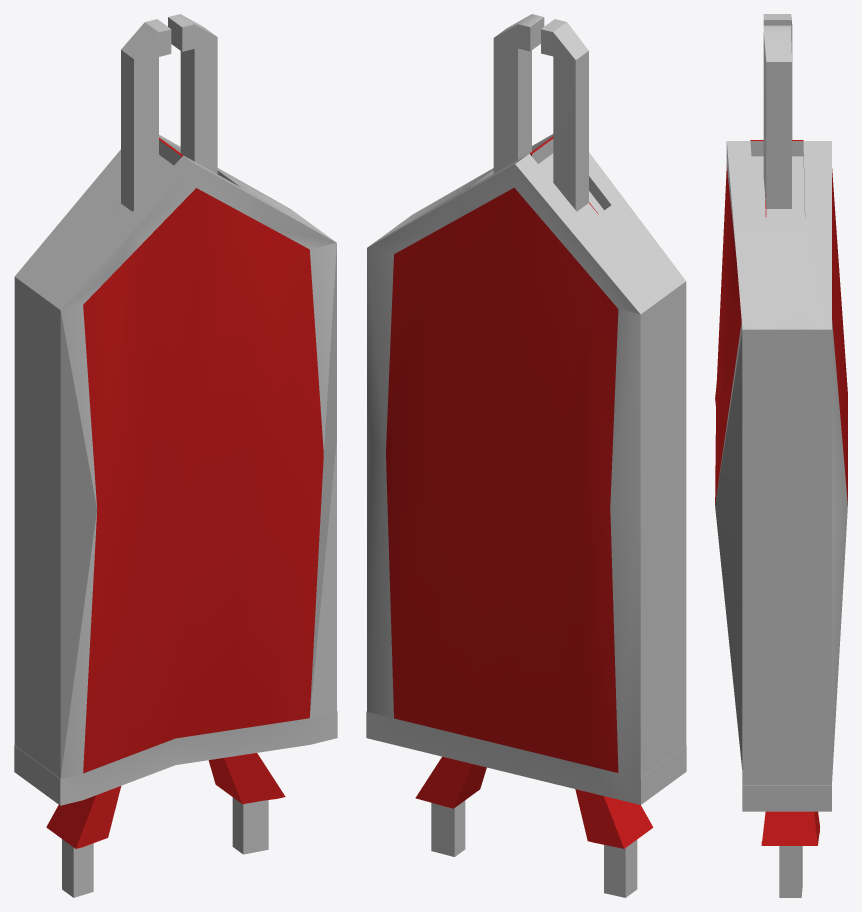
The model's file is Bloodback.fbx.
The picture shows the model from 3 angles, left to right: view 1: azimuth 30°, elevation 25°; view 2: azimuth 150°, elevation 25°; view 3: azimuth 270°, elevation 25°; orthographic projection. The views are drawn at different scales.
Parts seen in each view (by area): view 1: Bloodback; view 2: Bloodback; view 3: Bloodback.
Part boxes in pixels (<box>): Bloodback: <box>14,14,337,897</box>; Bloodback: <box>366,14,686,897</box>; Bloodback: <box>715,14,847,897</box>.
Bounding box in the file's own units: 3.84 × 11.27 × 1.64.
